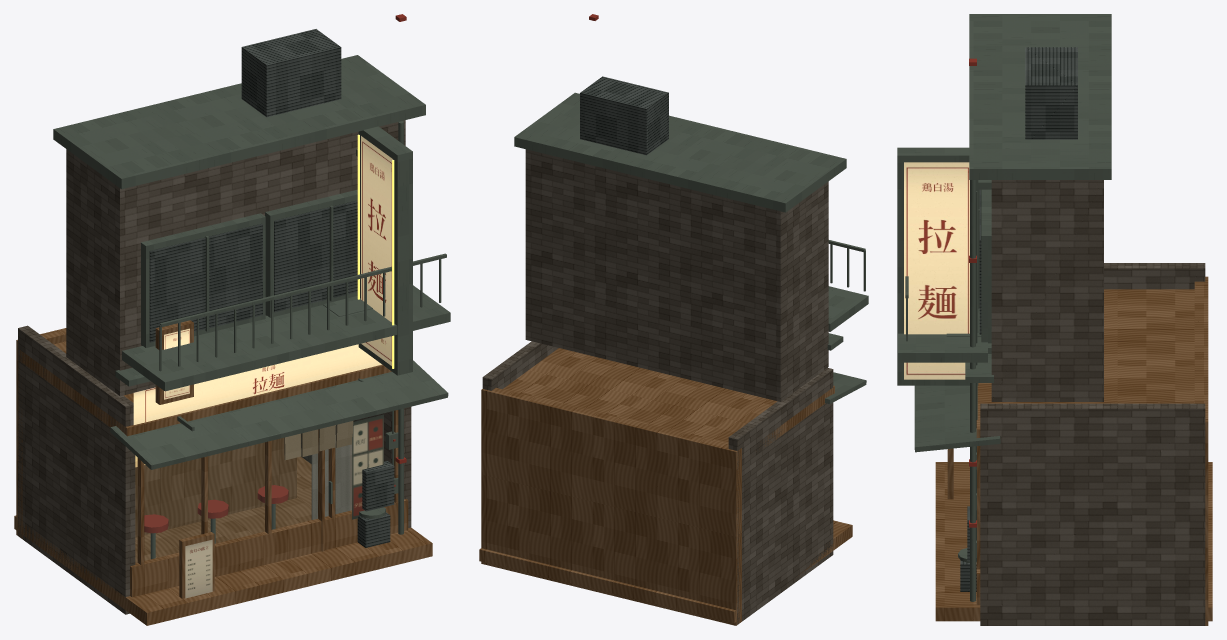
Rendered from yoto-ramen.glb.
3 renders of one model, left to right at view 1: azimuth 30°, elevation 25°; view 2: azimuth 150°, elevation 25°; view 3: azimuth 270°, elevation 25°, orthographic. The views are drawn at different scales.
Visible parts, largest first — view 1: Existing Yoto finish.001, Existing Yoto finish, Yoto timber, Existing Yoto finish.002, Existing Yoto finish.004, Existing Yoto finish.008, Existing Yoto finish.012, Existing Yoto finish.011, Existing Yoto finish.014, Existing Yoto finish.005, Existing Yoto finish.010, Existing Yoto finish.003 (+2 smaller); view 2: Existing Yoto finish, Yoto timber, Existing Yoto finish.001, Existing Yoto finish.002; view 3: Existing Yoto finish, Existing Yoto finish.001, Yoto timber, Existing Yoto finish.012, Existing Yoto finish.002.
Boxes of the visible parts, x1,y1,x2,y2 form: Existing Yoto finish.001: (53, 55, 450, 559); Existing Yoto finish: (18, 120, 411, 614); Yoto timber: (14, 320, 432, 625); Existing Yoto finish.002: (149, 29, 394, 547); Existing Yoto finish.004: (136, 438, 349, 562); Existing Yoto finish.008: (133, 344, 381, 424); Existing Yoto finish.012: (361, 136, 393, 365); Existing Yoto finish.011: (352, 414, 383, 519); Existing Yoto finish.014: (311, 435, 351, 519); Existing Yoto finish.005: (284, 421, 353, 460); Existing Yoto finish.010: (185, 539, 212, 598); Existing Yoto finish.003: (144, 14, 406, 533); Existing Yoto finish: (482, 149, 833, 624); Yoto timber: (479, 348, 852, 625); Existing Yoto finish.001: (514, 92, 868, 404); Existing Yoto finish.002: (580, 76, 668, 155); Existing Yoto finish: (980, 180, 1205, 625); Existing Yoto finish.001: (897, 14, 1111, 601); Yoto timber: (935, 276, 1212, 625); Existing Yoto finish.012: (904, 162, 969, 379); Existing Yoto finish.002: (960, 47, 1077, 591).
Size of the model in its own units: 4.9 by 8.23 by 4.21.
Materials: 18 (13 with a texture image).
